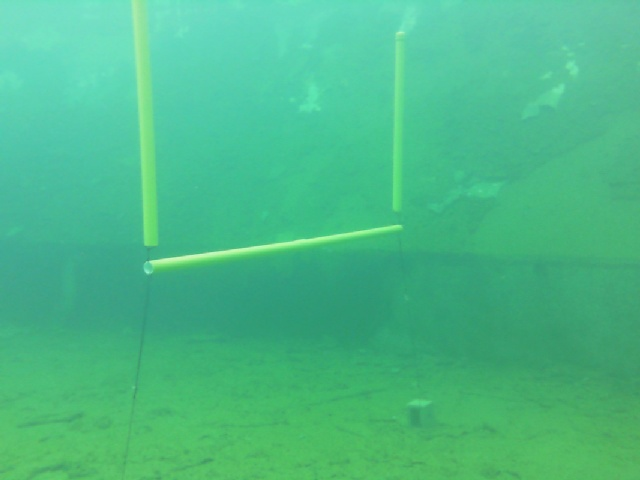channel: (111, 7, 429, 276)
